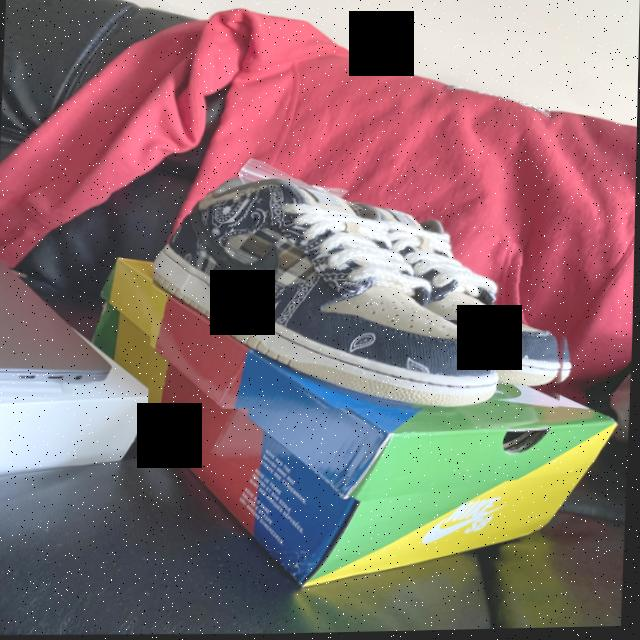shoe: (149, 168, 582, 417)
